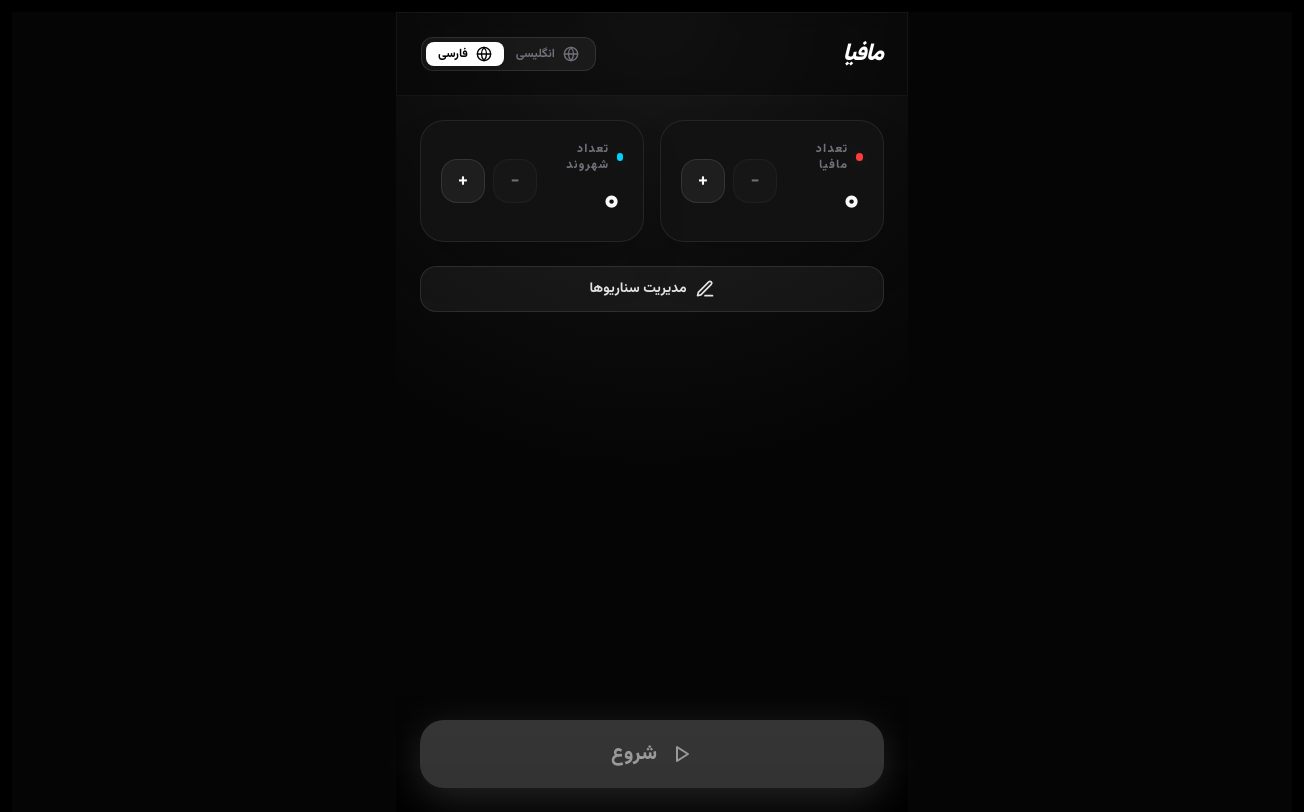
Test: Scenario Management › renames a scenario
Click the button "مدیریت سناریوها". click: (652,289)
box: 420,266 -> 884,312
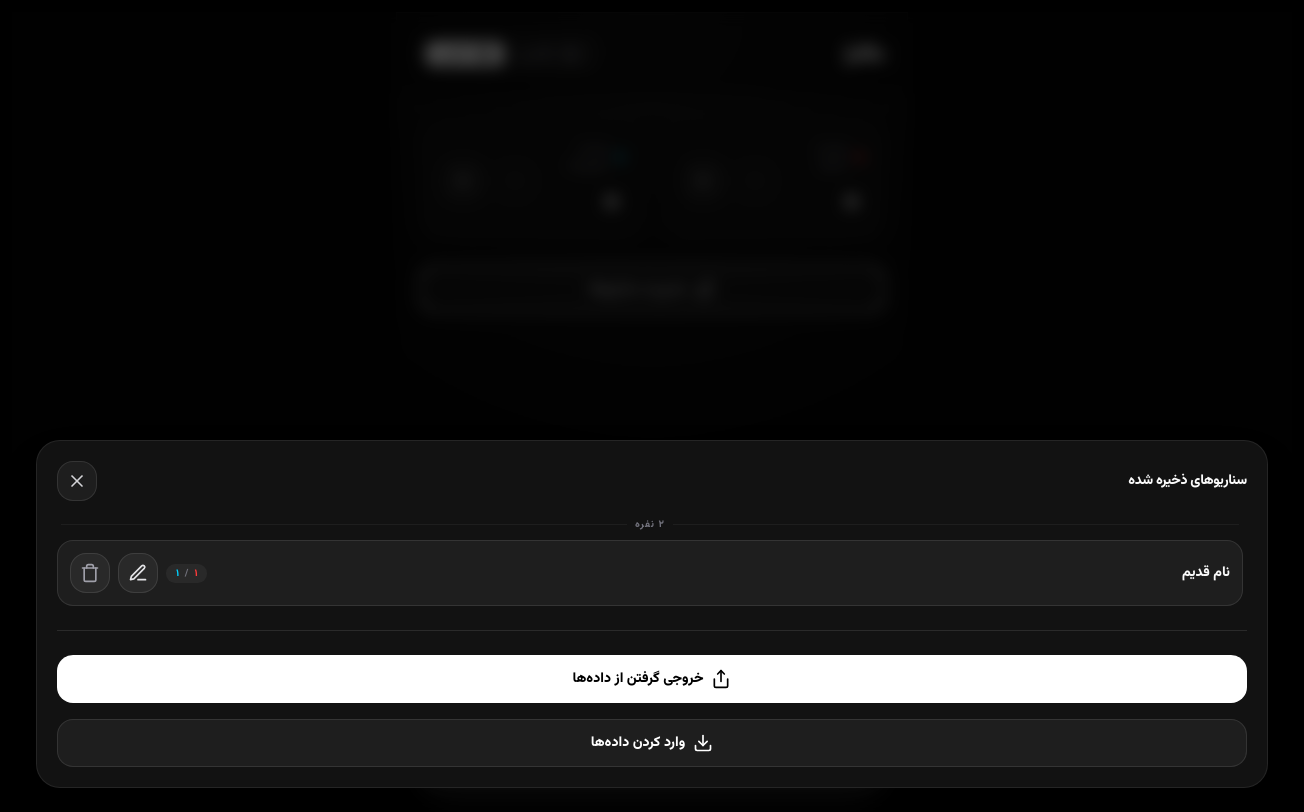
Check: the text "نام قدیم" is shown, box 1182,563 -> 1230,583
Click the button named "تغییر نام". click: (138,573)
box: 118,553 -> 158,593
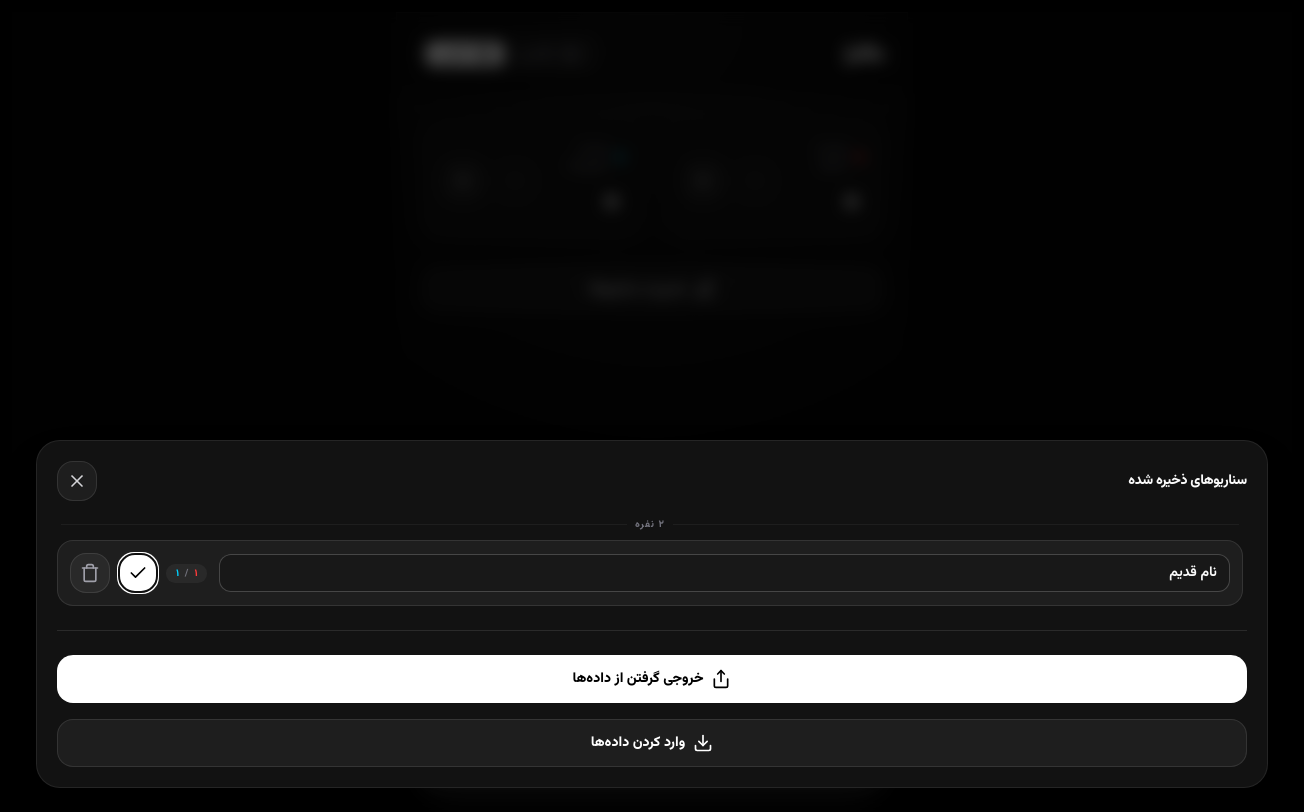
Replace the text in the field with placeholder "نام سناریو" with "نام جدید". click: (725,573)
box: 219,554 -> 1230,592
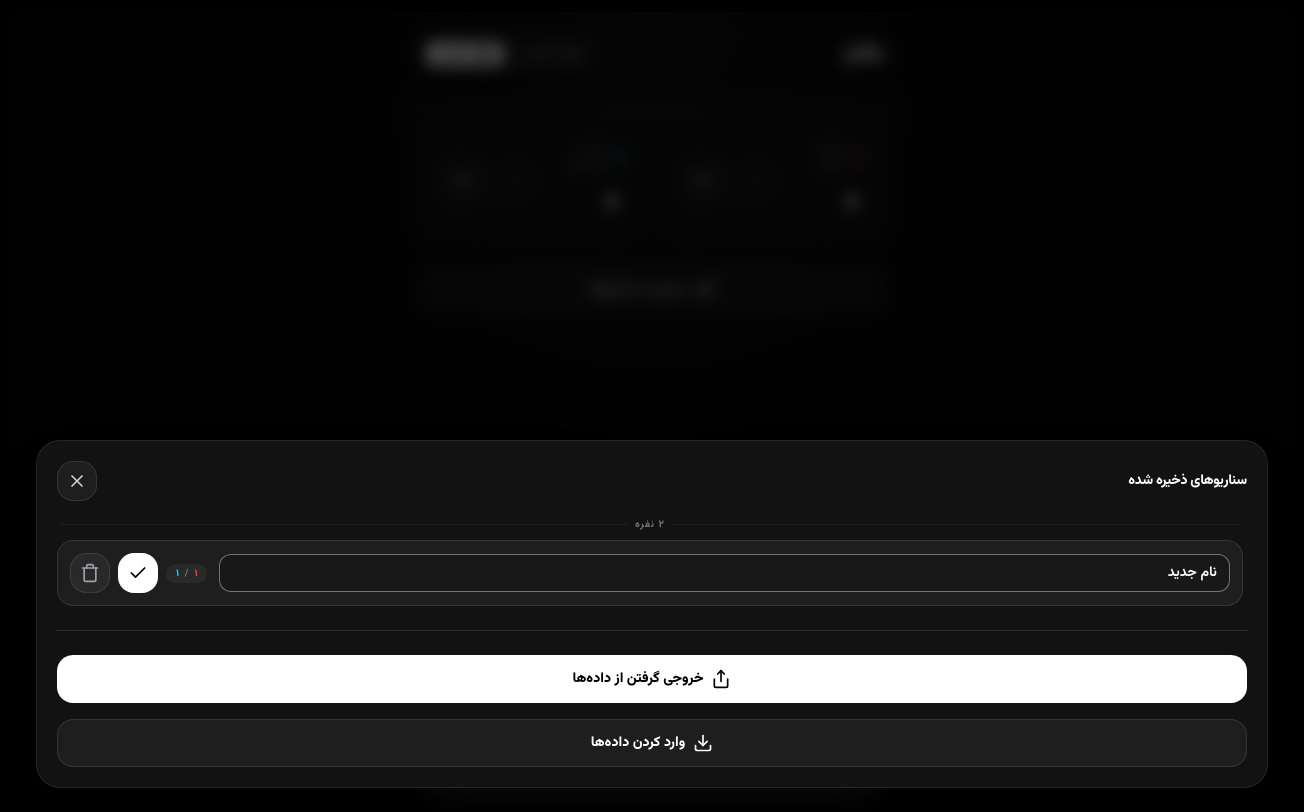
Click the button named "ذخیره". click: (138,573)
box: 118,553 -> 158,593
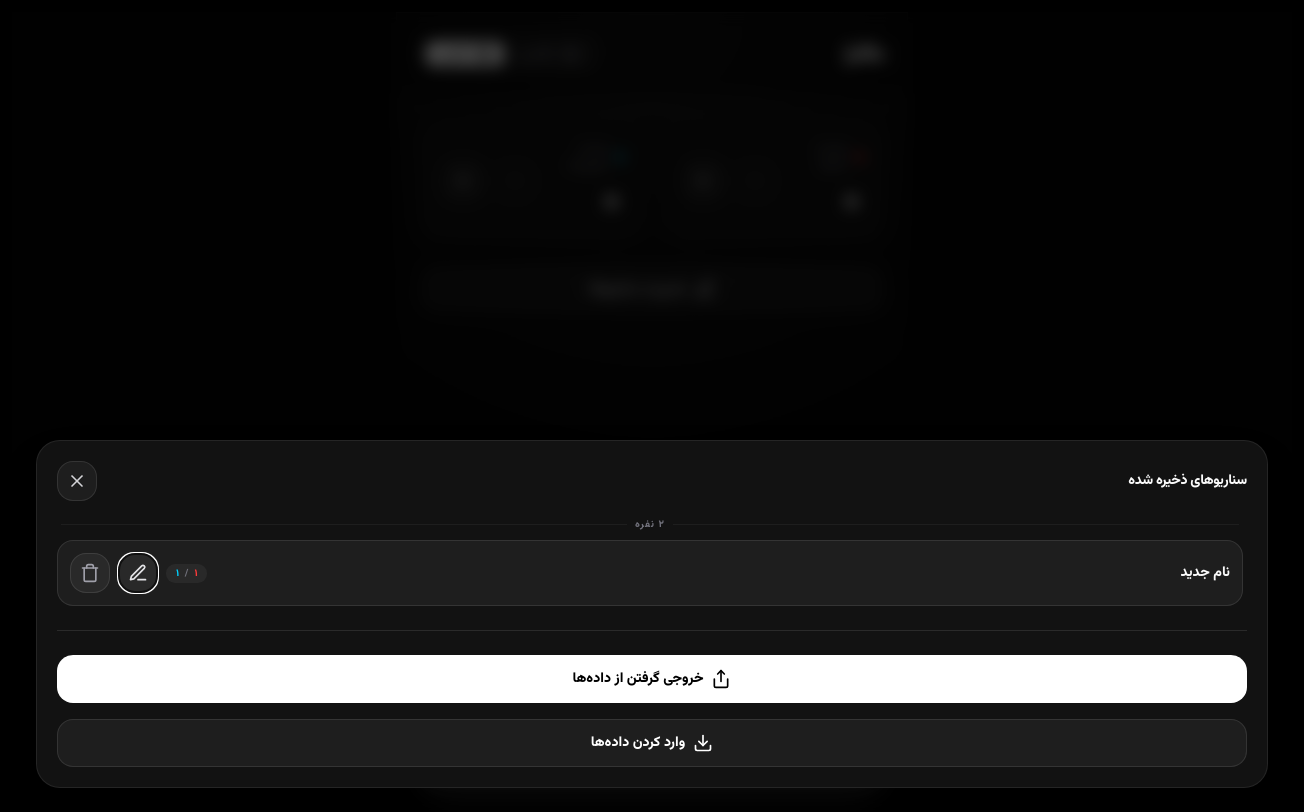
Check: the text "نام قدیم" is not shown
Check: the text "نام جدید" is shown, box 1180,563 -> 1230,583
